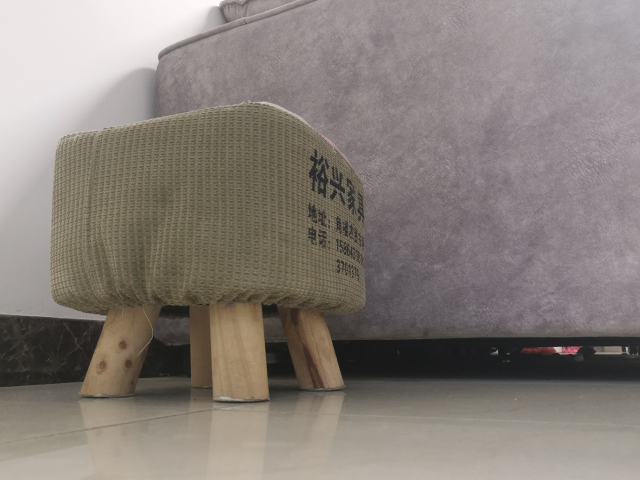sofa: (152, 1, 640, 376)
stool: (49, 99, 370, 406)
